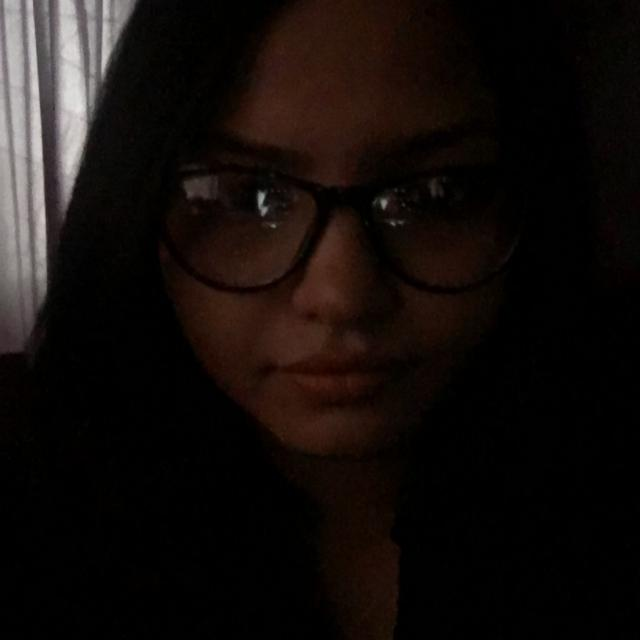Natural: (77, 75, 602, 509)
